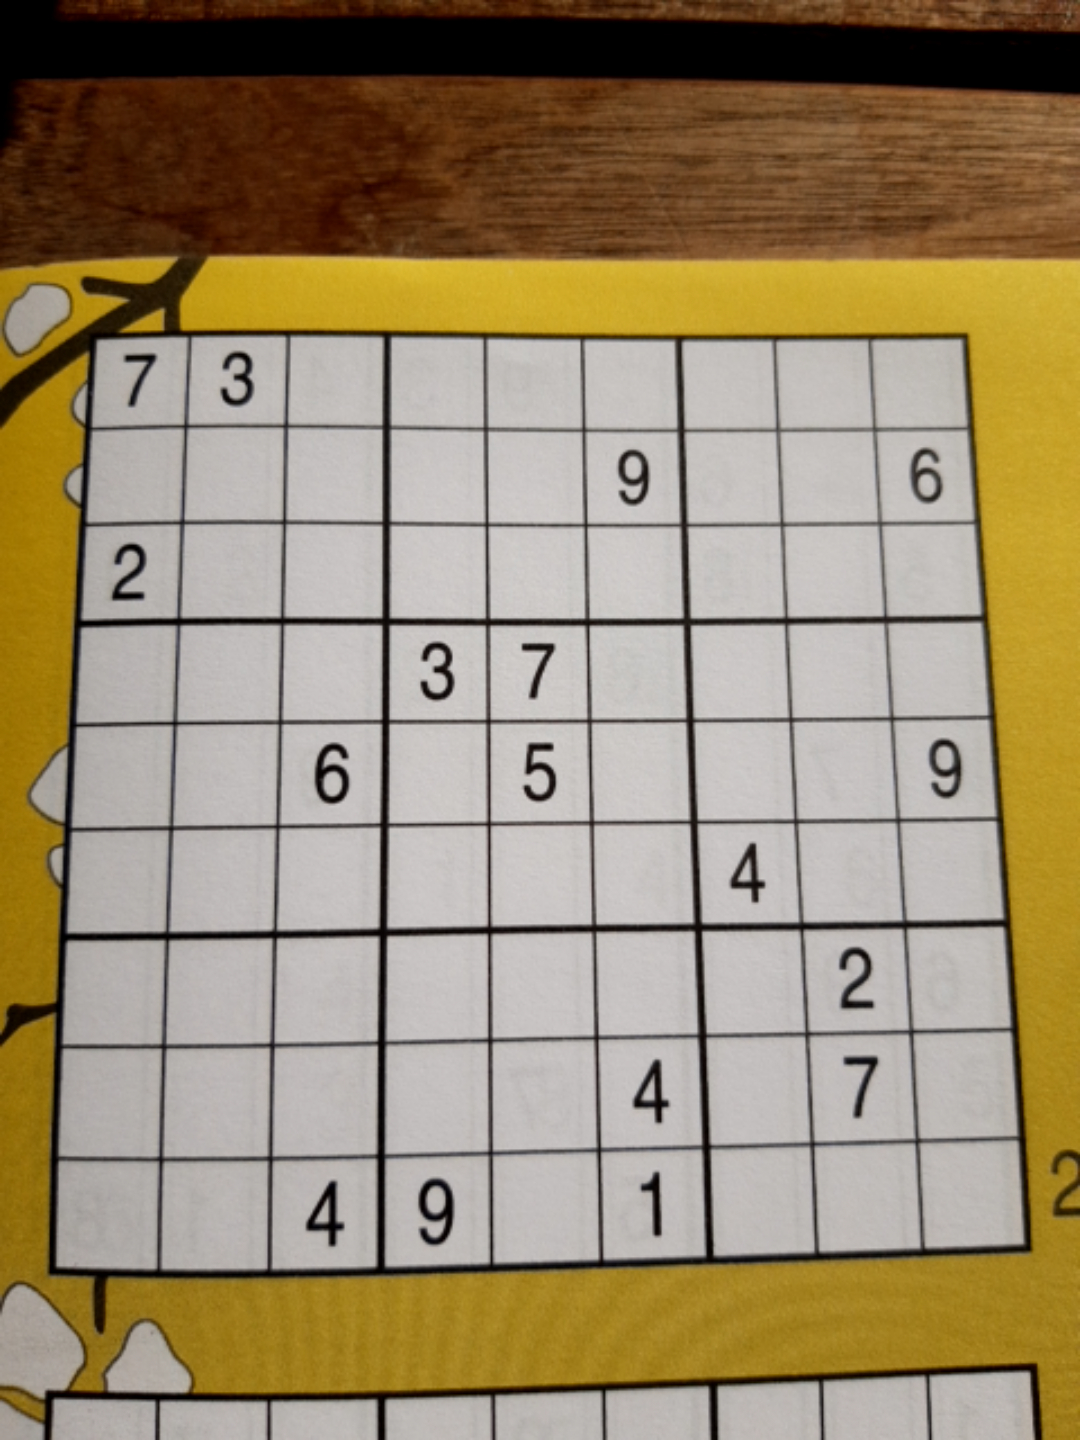sudoku: (45, 326, 1037, 1273)
